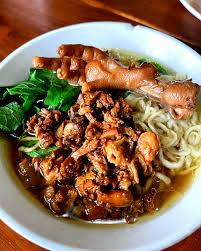Mie ayam: (12, 44, 196, 221)
